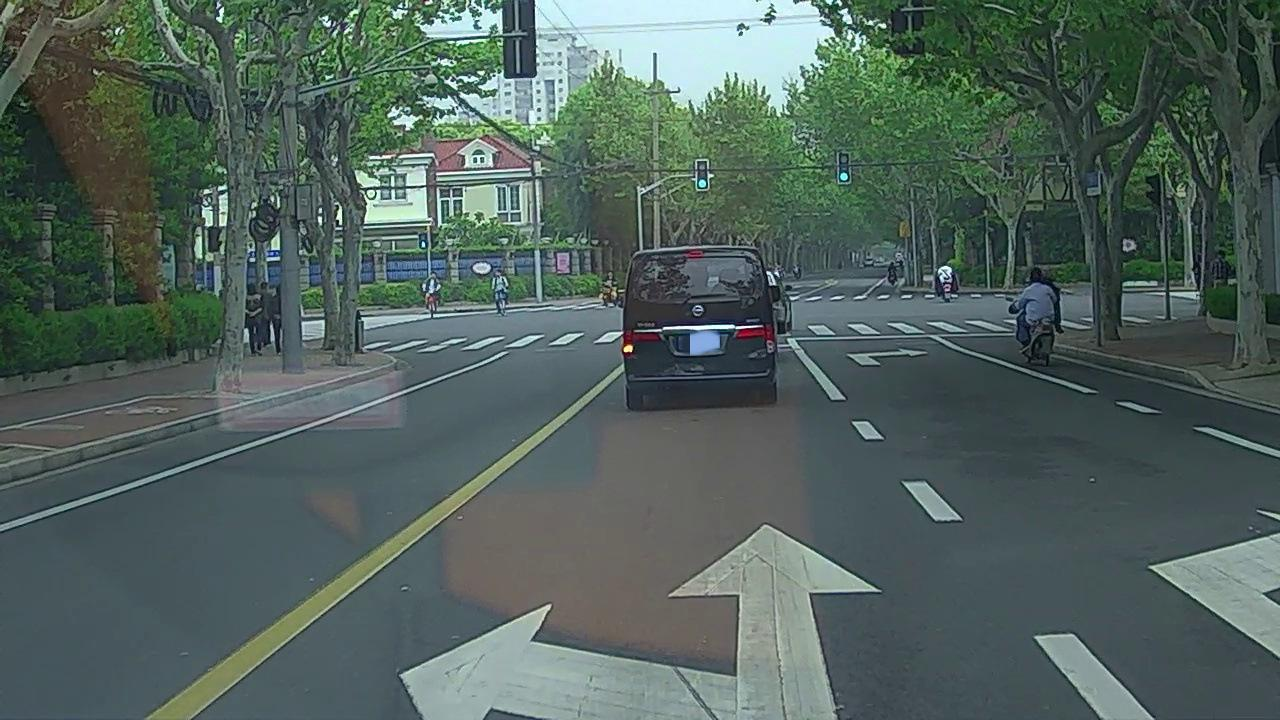traffic_light: (697, 160, 708, 189), (839, 153, 849, 183)
